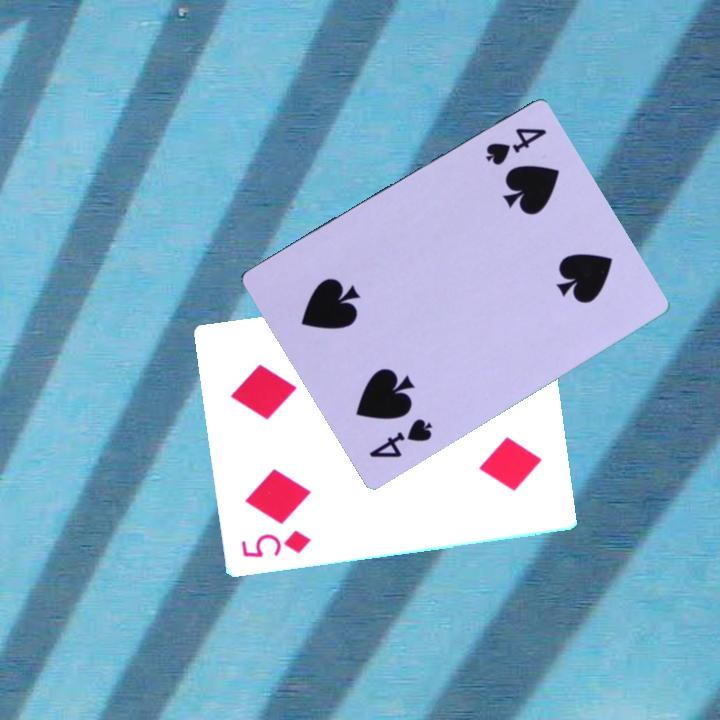4s: (365, 415, 435, 462), (481, 124, 550, 169)
5d: (237, 527, 314, 561)
